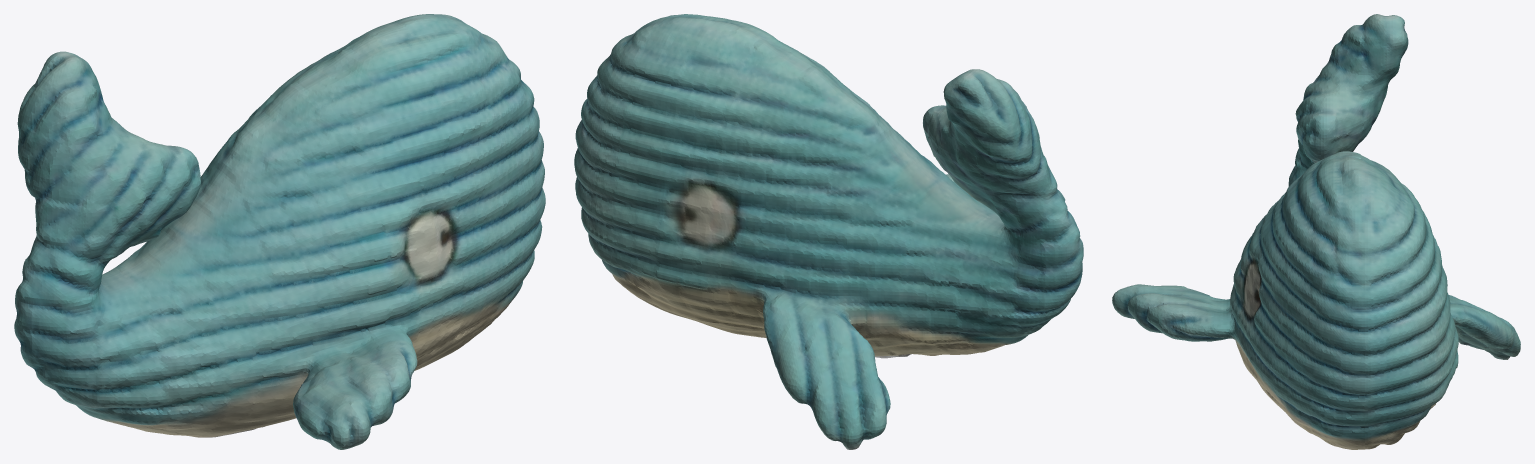
Rendered from omesh_60.glb.
3 views of the same model, side by side, from view 1: azimuth 30°, elevation 25°; view 2: azimuth 150°, elevation 25°; view 3: azimuth 270°, elevation 25° (orthographic). The views are drawn at different scales.
Visible parts, largest first — view 1: world; view 2: world; view 3: world.
Part boxes in pixels (box(x1,y1,x2,y2)): world: box(14, 14, 545, 449); world: box(574, 14, 1083, 449); world: box(1112, 14, 1520, 449).
Bounding box in the file's own units: 1.28 × 0.8755 × 1.02.
